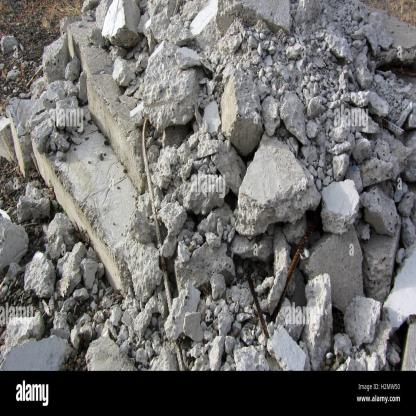rebar: (140, 115, 187, 373), (271, 210, 316, 322), (242, 263, 269, 342), (372, 113, 405, 137), (171, 0, 183, 18)
